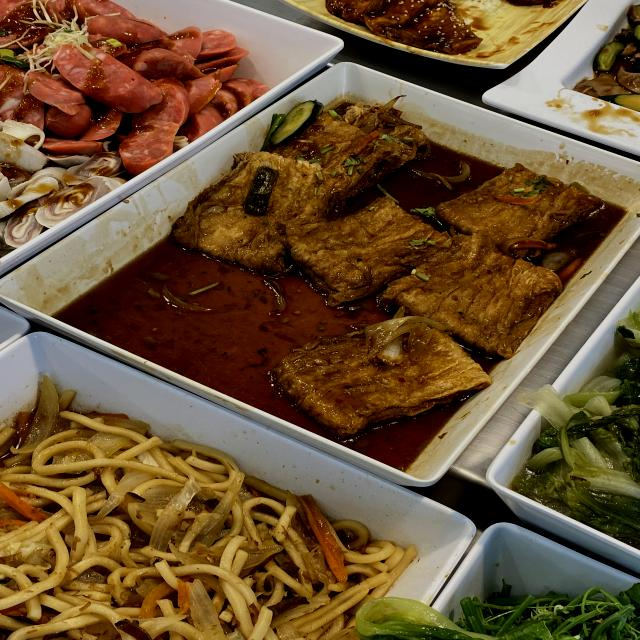bean bag: (244, 158, 487, 382)
